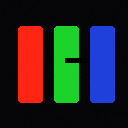3 line_h: (65, 58, 85, 62)
